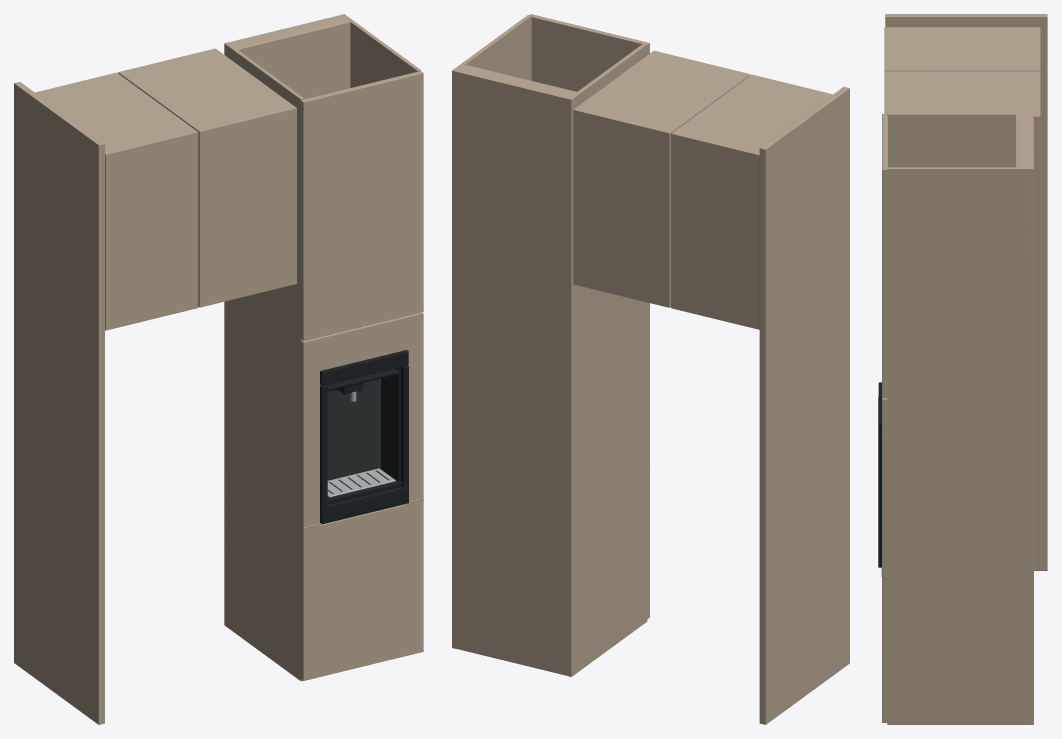
3 views of the same model, side by side, from view 1: azimuth 30°, elevation 25°; view 2: azimuth 150°, elevation 25°; view 3: azimuth 270°, elevation 25° (orthographic). The views are drawn at different scales.
Visible parts, largest first — view 1: Fridge left wood surround, Cabinet dispenser black top, Dispenser recessed back, Dispenser silver drip tray; view 2: Fridge left wood surround; view 3: Fridge left wood surround, Cabinet dispenser black top.
Part boxes in pixels (<box>): Fridge left wood surround: <box>14,14,423,724</box>; Cabinet dispenser black top: <box>320,350,408,523</box>; Dispenser recessed back: <box>327,378,389,493</box>; Dispenser silver drip tray: <box>327,391,395,497</box>; Fridge left wood surround: <box>452,14,849,724</box>; Fridge left wood surround: <box>881,14,1047,724</box>; Cabinet dispenser black top: <box>878,382,881,567</box>.
Bounding box in the file's own units: 1.56 × 2.7 × 0.739.
